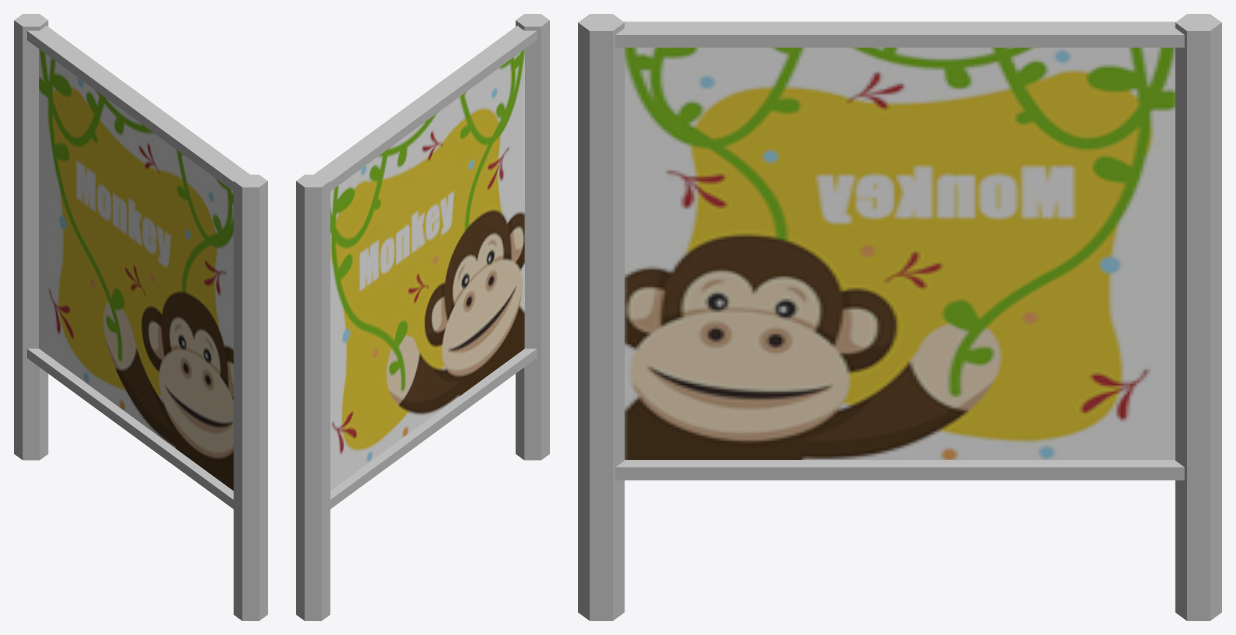
Rendered from guanggaopai_03.FBX.
3 views of the same model, side by side, from view 1: azimuth 30°, elevation 25°; view 2: azimuth 150°, elevation 25°; view 3: azimuth 270°, elevation 25° (orthographic). The views are drawn at different scales.
Parts seen in each view (by area): view 1: guanggaopai_03; view 2: guanggaopai_03; view 3: guanggaopai_03.
Part boxes in pixels (bbox=[...]): guanggaopai_03: bbox=[14, 14, 267, 620]; guanggaopai_03: bbox=[296, 14, 549, 620]; guanggaopai_03: bbox=[578, 14, 1221, 620].
Size of the model in its own units: 49.28 by 796 by 788.
